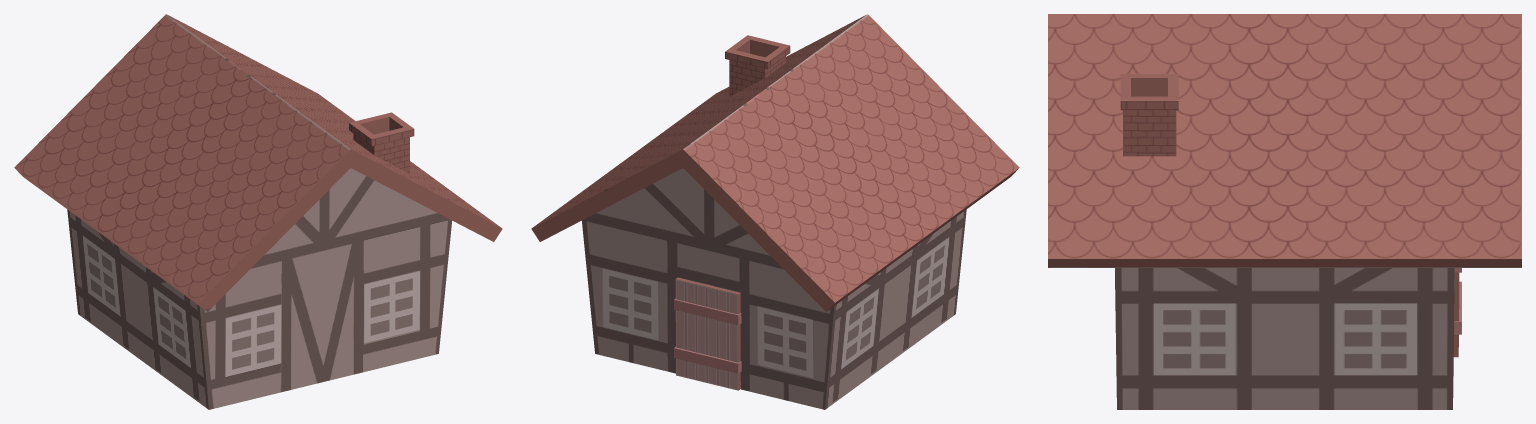
File: 鄉間小屋_3.fbx
3 renders of one model, left to right at view 1: azimuth 30°, elevation 25°; view 2: azimuth 150°, elevation 25°; view 3: azimuth 270°, elevation 25°, orthographic. The views are drawn at different scales.
Visible parts, largest first — view 1: polySurface2; view 2: polySurface2; view 3: polySurface2.
Boxes of the visible parts, x1,y1,x2,y2 form: polySurface2: (14,14,502,409); polySurface2: (531,14,1019,409); polySurface2: (1048,14,1521,409).
Size of the model in its own units: 26.12 by 20.73 by 27.49.
